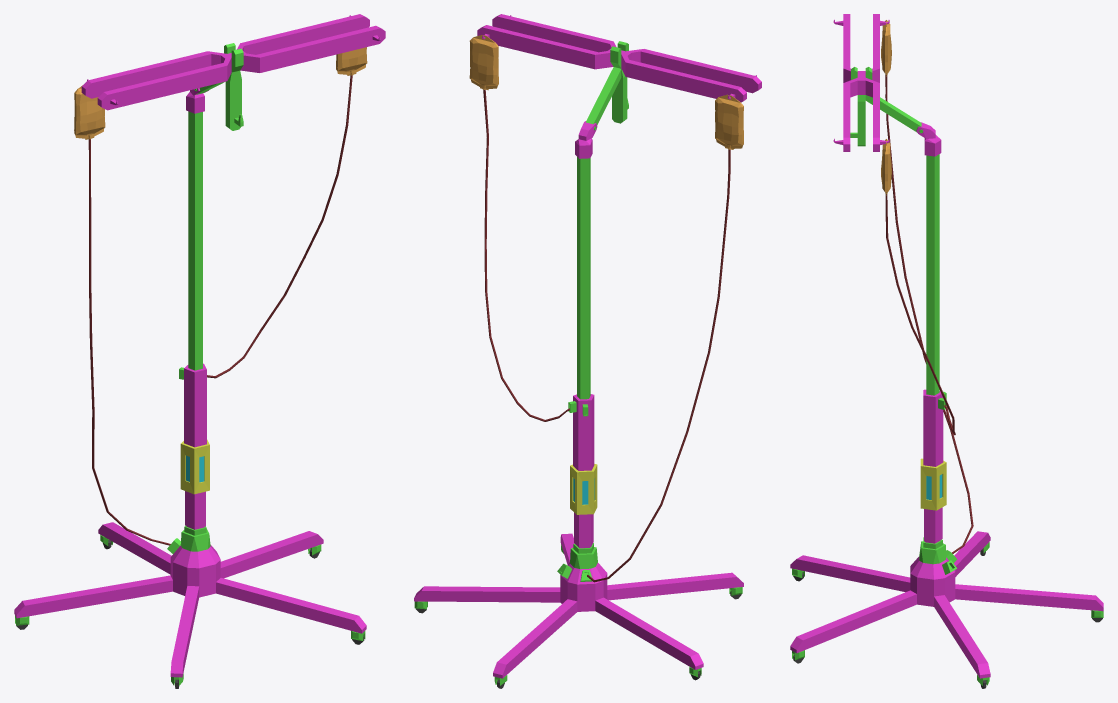
Rendered from Iv_Stand_01.fbx.
3 renders of one model, left to right at view 1: azimuth 30°, elevation 25°; view 2: azimuth 150°, elevation 25°; view 3: azimuth 270°, elevation 25°, orthographic. The views are drawn at different scales.
Parts seen in each view (by area): view 1: Iv_Stand_01, Iv_Stand_01_Blood_A, Iv_Stand_01_Blood_B; view 2: Iv_Stand_01, Iv_Stand_01_Blood_A, Iv_Stand_01_Blood_B; view 3: Iv_Stand_01, Iv_Stand_01_Blood_A, Iv_Stand_01_Blood_B.
Boxes of the visible parts, bbox=[...] form: Iv_Stand_01: bbox=[14, 14, 385, 688]; Iv_Stand_01_Blood_A: bbox=[74, 85, 170, 545]; Iv_Stand_01_Blood_B: bbox=[207, 47, 367, 378]; Iv_Stand_01: bbox=[414, 14, 761, 688]; Iv_Stand_01_Blood_A: bbox=[587, 94, 743, 582]; Iv_Stand_01_Blood_B: bbox=[469, 35, 569, 421]; Iv_Stand_01: bbox=[790, 14, 1103, 688]; Iv_Stand_01_Blood_A: bbox=[881, 20, 973, 553]; Iv_Stand_01_Blood_B: bbox=[881, 139, 955, 435].
Bounding box in the file's own units: 112 × 207 × 106.
